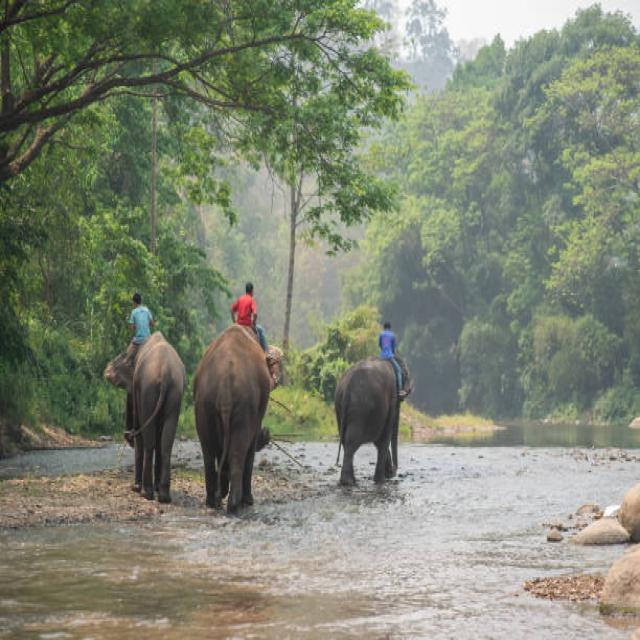Elephant: (197, 328, 265, 516), (321, 346, 402, 488), (121, 332, 186, 505)
